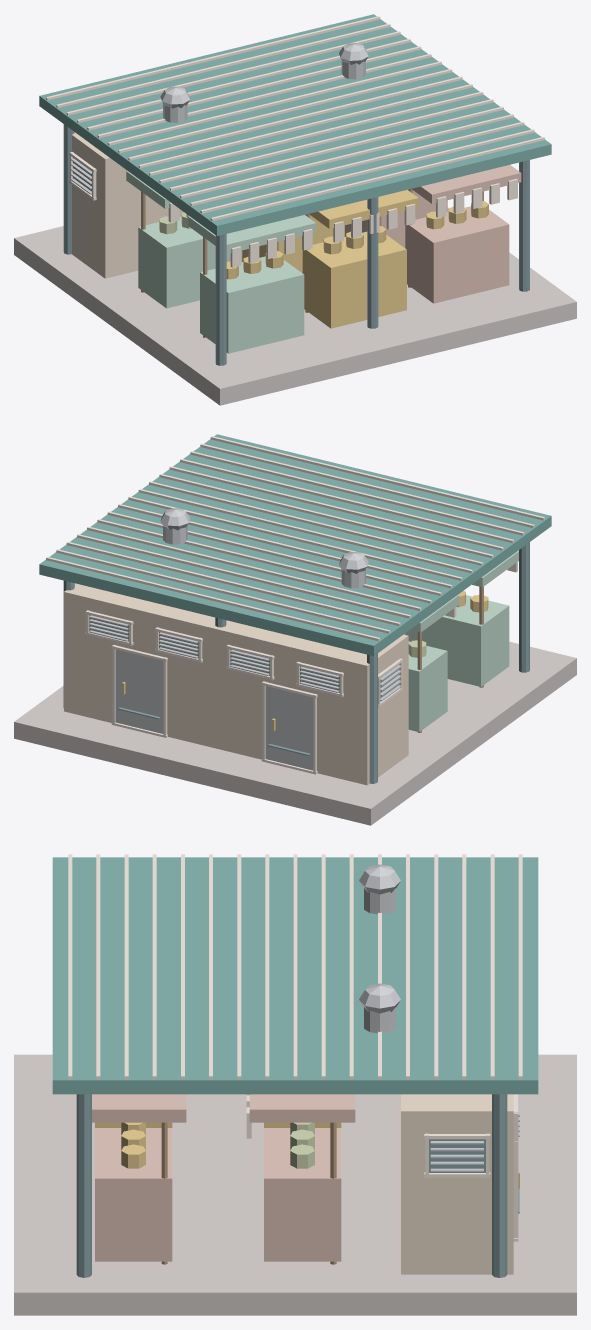
The model's file is dot-tpl-market-2.glb.
The picture shows the model from 3 angles, top to bottom: view 1: azimuth 30°, elevation 25°; view 2: azimuth 150°, elevation 25°; view 3: azimuth 270°, elevation 25°; orthographic projection. The views are drawn at different scales.
Parts seen in each view (by area): view 1: paving; view 2: paving; view 3: paving.
Part boxes in pixels (x1,y1,x2,y2): paving: [14, 14, 576, 405]; paving: [14, 434, 576, 825]; paving: [14, 854, 576, 1315].
Size of the model in its own units: 4 by 2.12 by 4.
1 material, 1 textured.
